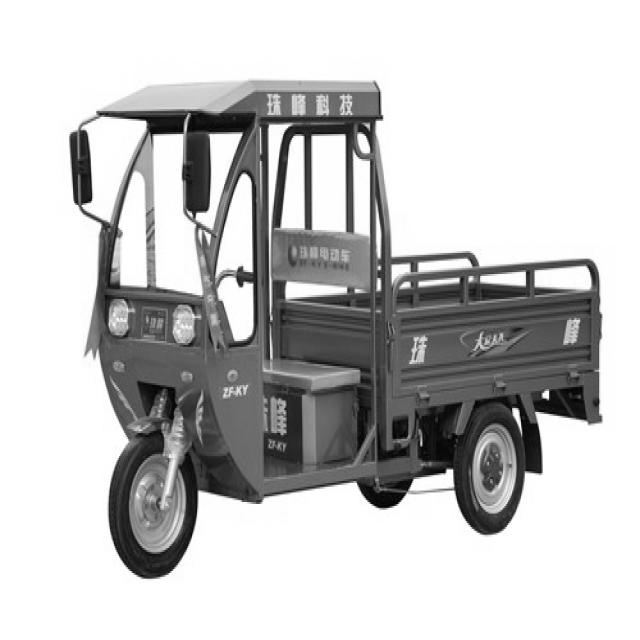tricycle: (69, 76, 602, 574)
